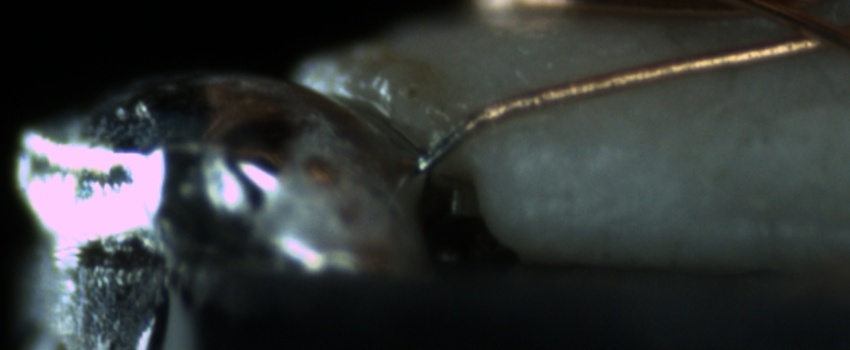CL: (755, 4, 847, 64)
TS: (418, 124, 466, 169)
